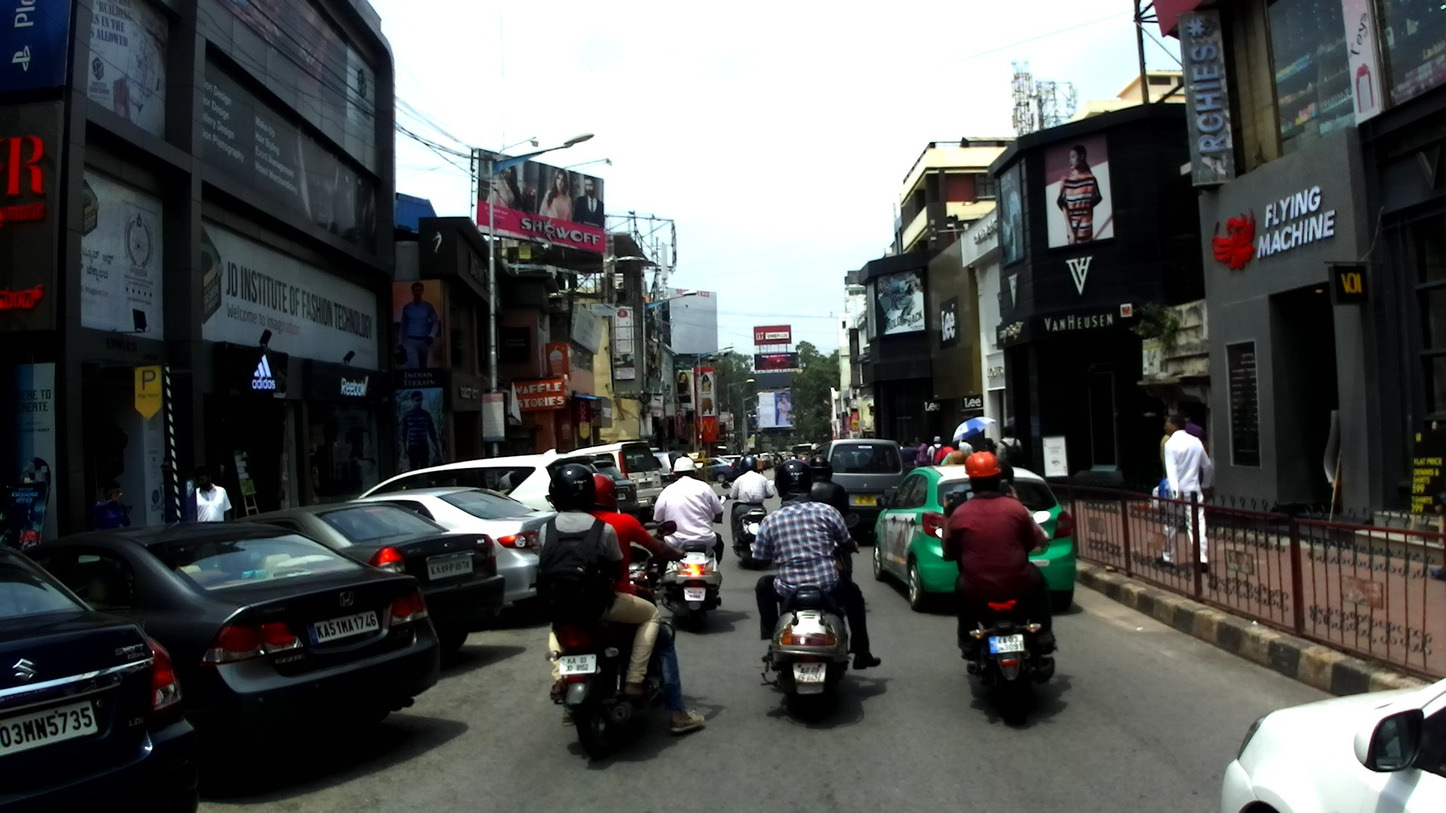car: (17, 521, 441, 795), (1, 546, 204, 813), (234, 501, 506, 656), (871, 464, 1077, 614), (1219, 678, 1446, 813), (344, 486, 557, 623), (359, 448, 599, 519), (812, 437, 905, 546), (568, 440, 664, 529), (588, 459, 638, 521), (650, 446, 688, 490), (700, 456, 740, 483), (718, 455, 745, 478)
motorcycle: (545, 519, 688, 762), (934, 507, 1057, 727), (748, 513, 862, 723), (647, 495, 727, 633), (721, 478, 778, 571), (834, 540, 845, 582)
person: (1152, 413, 1211, 571), (90, 479, 133, 531), (196, 467, 231, 523), (997, 424, 1025, 470), (1160, 416, 1173, 483), (1178, 409, 1203, 442), (898, 437, 919, 475), (941, 439, 967, 465), (933, 439, 956, 464), (927, 435, 943, 469), (913, 435, 929, 467), (959, 437, 973, 455), (984, 436, 998, 453), (755, 453, 764, 475), (899, 438, 909, 452), (739, 451, 745, 473)
rider: (584, 472, 706, 734), (537, 463, 663, 701), (751, 458, 882, 671), (941, 450, 1051, 659), (653, 455, 724, 578), (804, 454, 853, 581), (725, 454, 775, 549), (999, 459, 1049, 549), (775, 453, 782, 467), (773, 450, 780, 462)
vehicle fallback: (754, 452, 779, 470), (789, 444, 813, 458), (778, 450, 795, 462), (799, 452, 813, 462)
